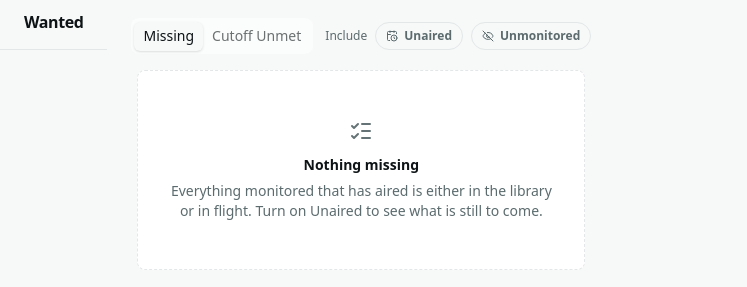
Test case: offers an unmonitored cutoff row its own monitor toggle
Click the tab "Cutoff Unmet". click: [257, 36]
box: [203,22,310,50]
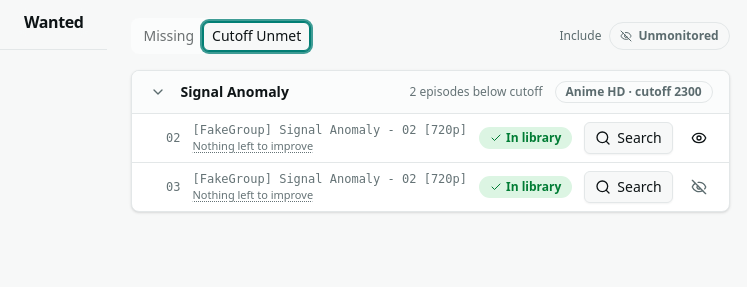
Check: the text "In library" is shown 2 times, box [479,127,572,149]; [479,176,572,198]
Check: the button named "monitor episode 3" is shown, box [685,173,713,201]
Check: the button named "stop monitoring episode 2" is shown, box [685,124,713,152]
